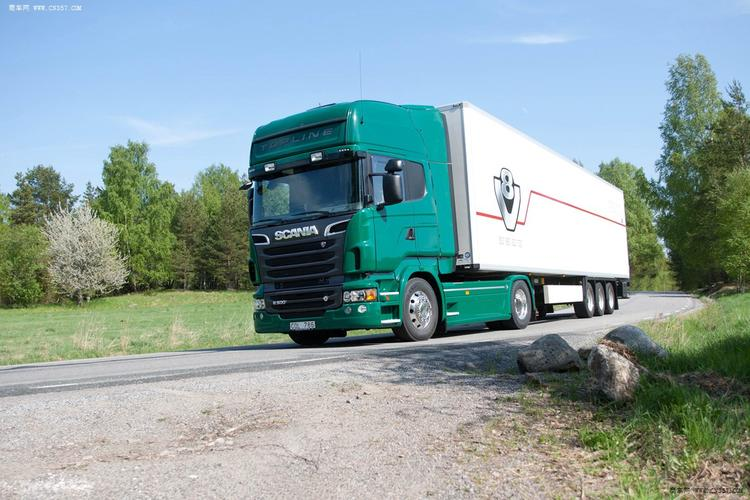卡车: (235, 94, 648, 340)
